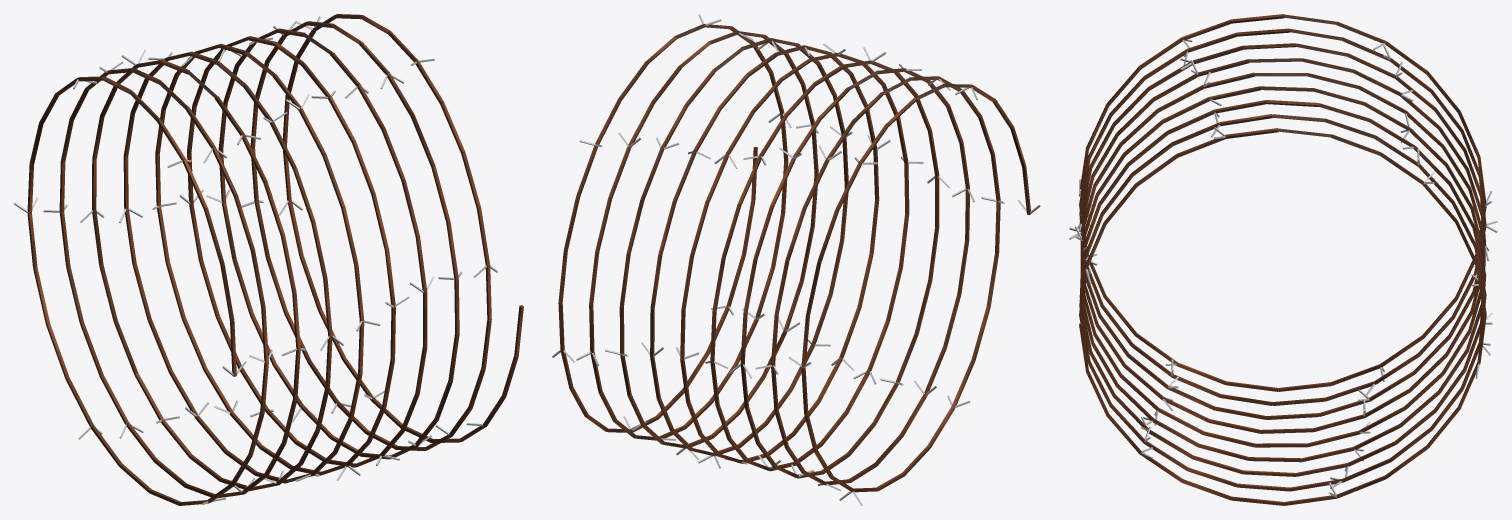
Rendered from arame_farpado.glb.
3 renders of one model, left to right at view 1: azimuth 30°, elevation 25°; view 2: azimuth 150°, elevation 25°; view 3: azimuth 270°, elevation 25°, orthographic. The views are drawn at different scales.
Parts seen in each view (by area): view 1: arame_farpado_ferrugem, arame_farpado_aco; view 2: arame_farpado_ferrugem, arame_farpado_aco; view 3: arame_farpado_ferrugem, arame_farpado_aco.
Boxes of the visible parts, x1,y1,x2,y2 form: arame_farpado_ferrugem: (27, 14, 523, 505); arame_farpado_aco: (14, 16, 497, 504); arame_farpado_ferrugem: (558, 24, 1030, 492); arame_farpado_aco: (552, 14, 1040, 505); arame_farpado_ferrugem: (1079, 14, 1486, 505); arame_farpado_aco: (1069, 39, 1497, 497).
Bounding box in the file's own units: 0.3212 × 0.4037 × 0.4234.
Materials: 2 (1 with a texture image).
